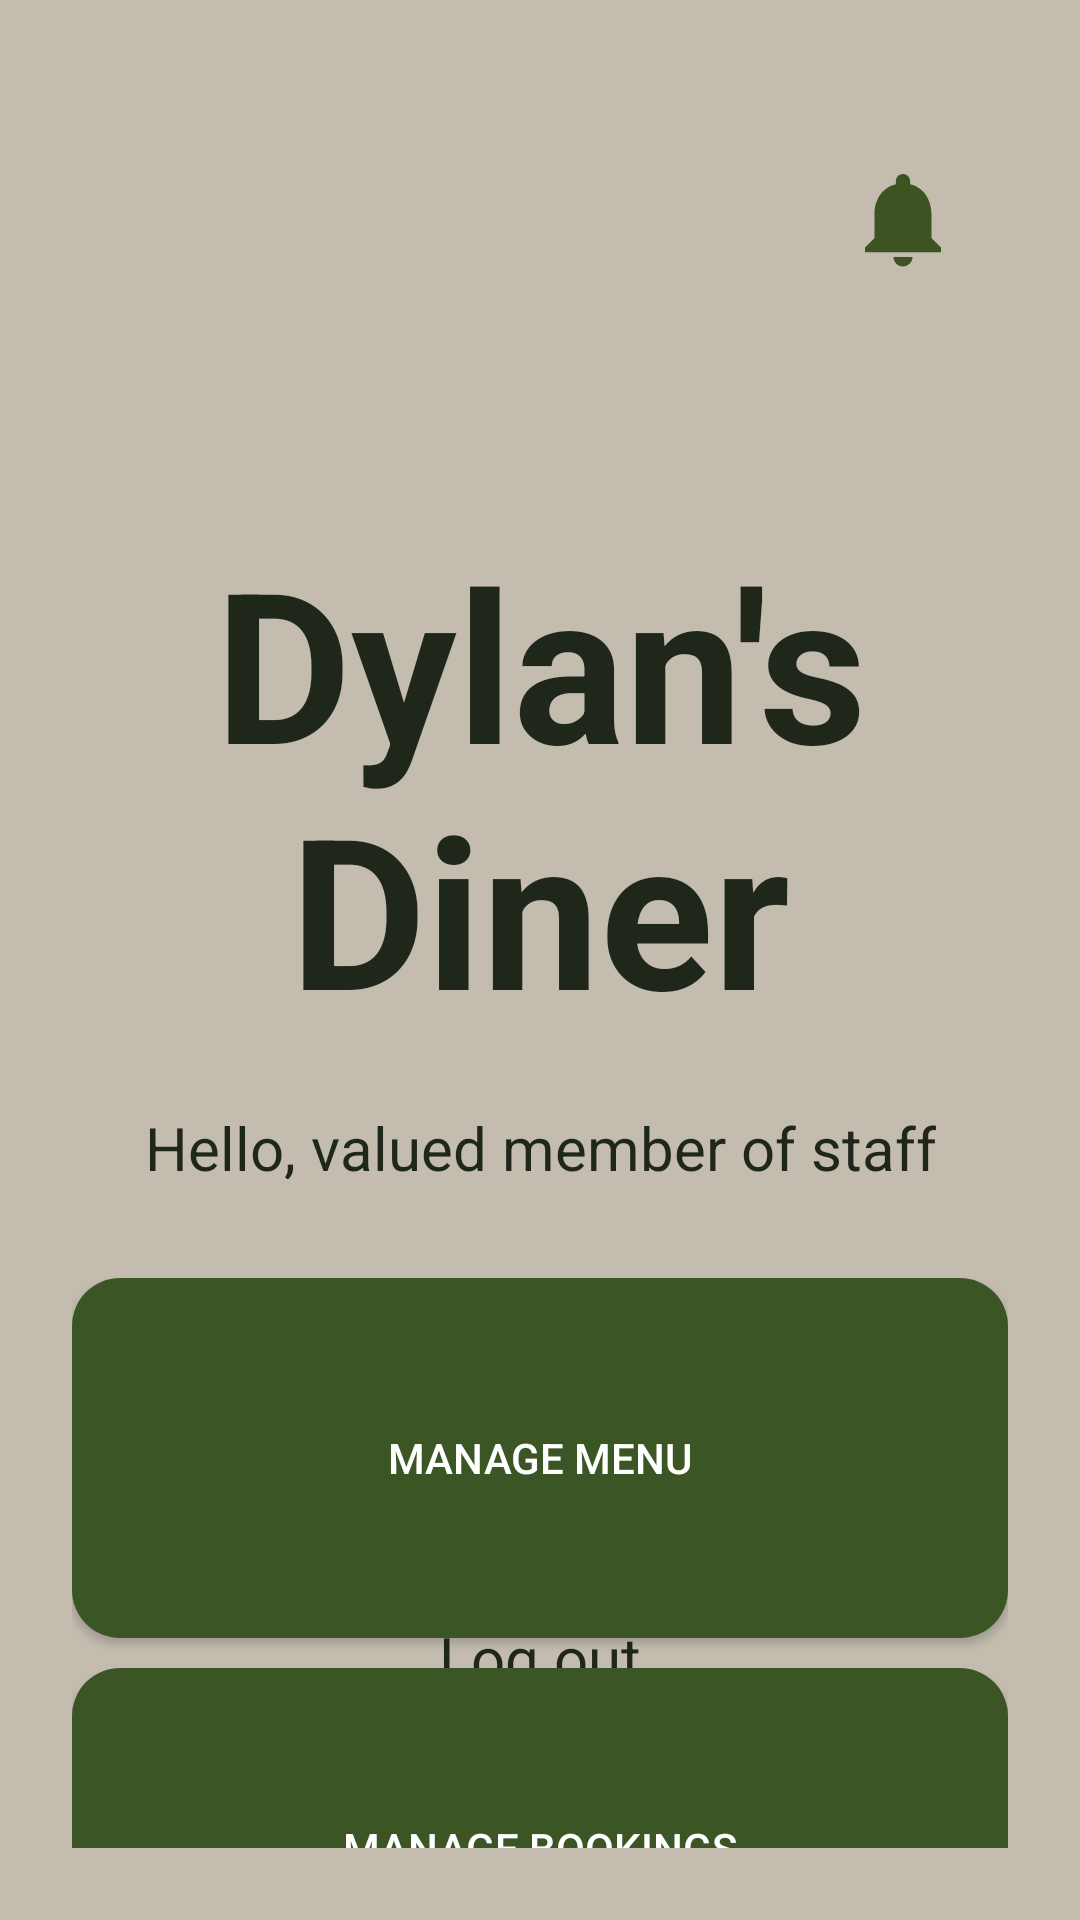

Icon click points for this 1080 × 1920 phone screenshot, format [x,y]:
Notifications: [903,220]
